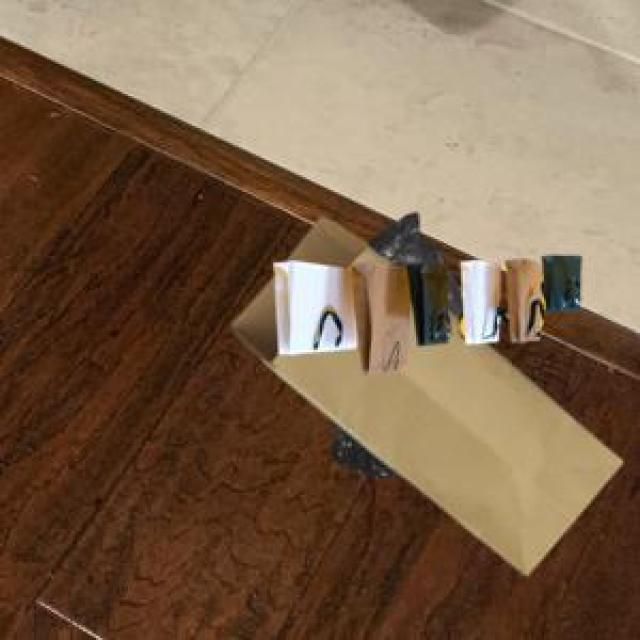paper: (228, 213, 619, 570), (269, 252, 576, 369)
